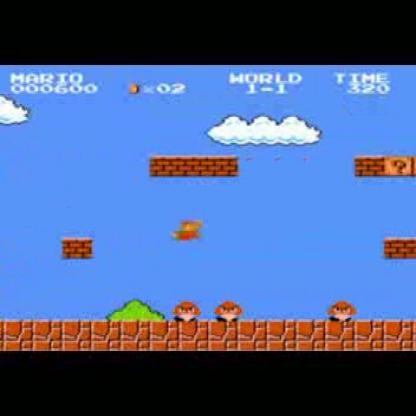Goomba: (168, 296, 199, 323), (216, 297, 242, 321), (326, 299, 352, 322)
